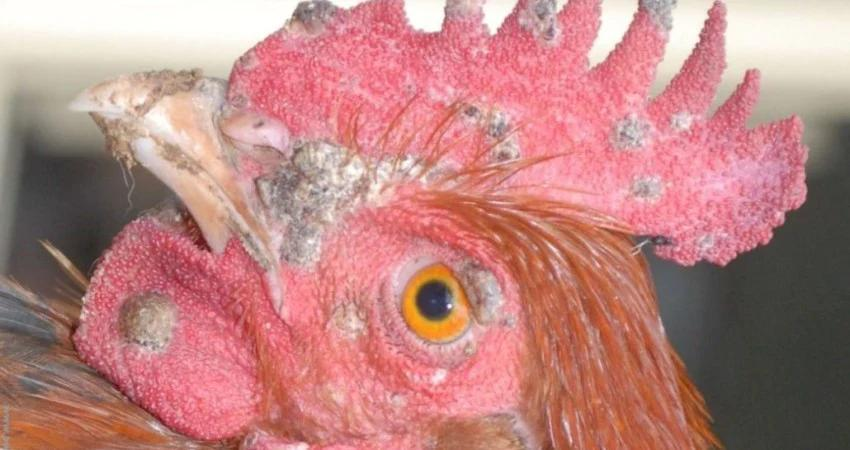AbNormal: (67, 3, 805, 268)
